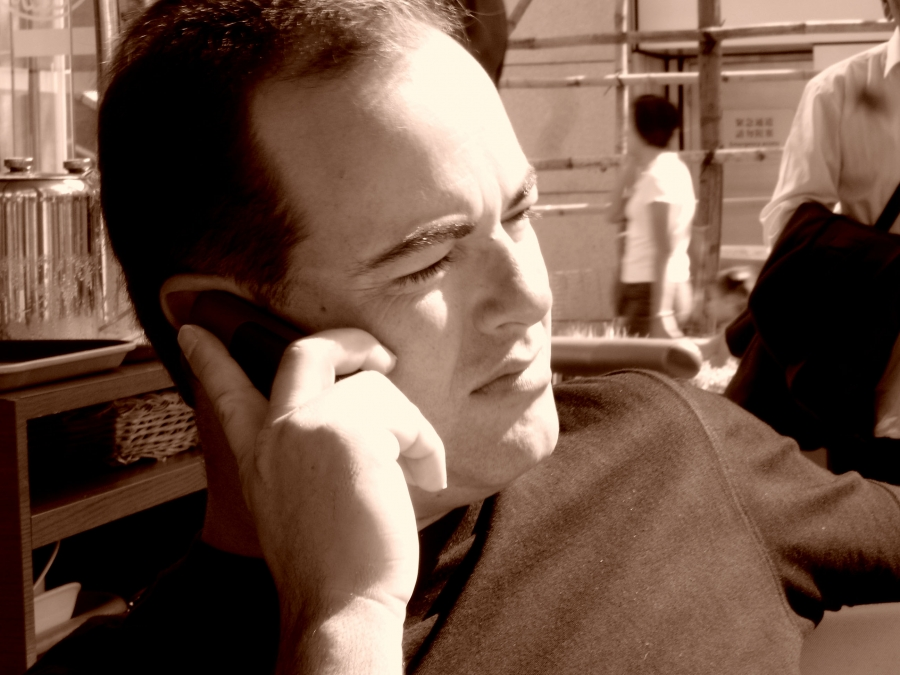phone: (181, 286, 375, 461)
talk: (169, 144, 576, 626)
